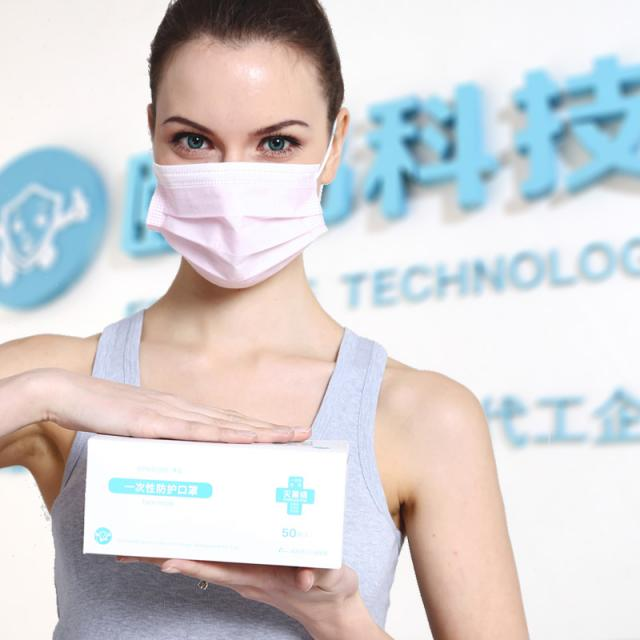mask: (148, 37, 327, 275)
